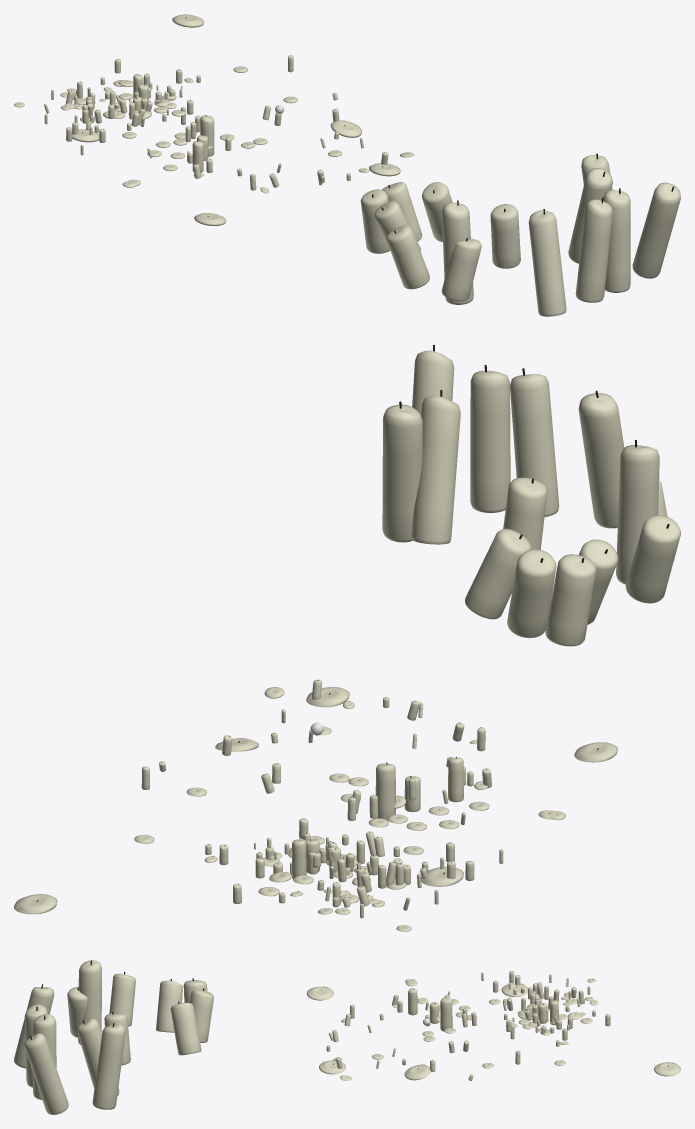
File: Candlesrandom.fbx
The picture shows the model from 3 angles, top to bottom: view 1: azimuth 30°, elevation 25°; view 2: azimuth 150°, elevation 25°; view 3: azimuth 270°, elevation 25°; orthographic projection. The views are drawn at different scales.
Parts seen in each view (by area): view 1: CANDLEBIG1.042, CANDLEBIG1.044, CANDLEBIG1.038, CANDLEBIG1.034, CANDLEBIG1.035, CANDLEBIG1.033, CANDLEBIG1.043, CANDLEBIG1.040, CANDLEBIG1.046, CANDLEBIG1.041, CANDLEBIG1.039, CANDLEBIG1.045 (+1 smaller); view 2: CANDLEBIG1.046, CANDLEBIG1.034, CANDLEBIG1.036, CANDLEBIG1.044, CANDLEBIG1.042, CANDLEBIG1.040, CANDLEBIG1.041, CANDLEBIG1.033, CANDLEBIG1.045, CANDLEBIG1.039, CANDLEBIG1.035, CANDLEBIG1.038 (+2 smaller); view 3: CANDLEBIG1.036, CANDLEBIG1.038, CANDLEBIG1.040, CANDLEBIG1.039, CANDLEBIG1.046, CANDLEBIG1.033, CANDLEBIG1.037, CANDLEBIG1.045, CANDLEBIG1.042, CANDLEBIG1.034, CANDLEBIG1.043, CANDLEBIG1.044 (+9 smaller).
Part boxes in pixels (x1,y1,x2,y2): CANDLEBIG1.042: [528, 209, 566, 316]; CANDLEBIG1.044: [575, 197, 612, 302]; CANDLEBIG1.038: [632, 182, 680, 278]; CANDLEBIG1.034: [603, 188, 630, 292]; CANDLEBIG1.035: [490, 204, 520, 268]; CANDLEBIG1.033: [386, 225, 429, 289]; CANDLEBIG1.043: [441, 238, 481, 301]; CANDLEBIG1.040: [441, 200, 473, 304]; CANDLEBIG1.046: [568, 168, 612, 263]; CANDLEBIG1.041: [360, 189, 390, 253]; CANDLEBIG1.039: [422, 182, 452, 242]; CANDLEBIG1.045: [382, 182, 422, 241]; CANDLEBIG1.046: [411, 390, 460, 544]; CANDLEBIG1.034: [470, 365, 510, 512]; CANDLEBIG1.036: [382, 401, 422, 542]; CANDLEBIG1.044: [510, 368, 559, 516]; CANDLEBIG1.042: [578, 390, 624, 528]; CANDLEBIG1.040: [616, 440, 659, 584]; CANDLEBIG1.041: [545, 554, 596, 646]; CANDLEBIG1.033: [625, 515, 680, 603]; CANDLEBIG1.045: [507, 549, 556, 638]; CANDLEBIG1.039: [465, 528, 531, 619]; CANDLEBIG1.035: [503, 477, 547, 549]; CANDLEBIG1.038: [412, 345, 454, 415]; CANDLEBIG1.036: [92, 1023, 125, 1109]; CANDLEBIG1.038: [24, 1033, 68, 1114]; CANDLEBIG1.040: [78, 960, 102, 1044]; CANDLEBIG1.039: [170, 1001, 201, 1055]; CANDLEBIG1.046: [77, 1018, 119, 1095]; CANDLEBIG1.033: [109, 972, 135, 1026]; CANDLEBIG1.037: [156, 979, 183, 1032]; CANDLEBIG1.045: [190, 988, 213, 1042]; CANDLEBIG1.042: [14, 984, 54, 1068]; CANDLEBIG1.034: [33, 1014, 56, 1099]; CANDLEBIG1.043: [67, 986, 87, 1037]; CANDLEBIG1.044: [24, 1004, 47, 1087].
Size of the model in its own units: 25047 by 7509 by 52751.
